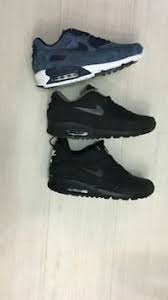nike: (73, 104, 107, 117)
